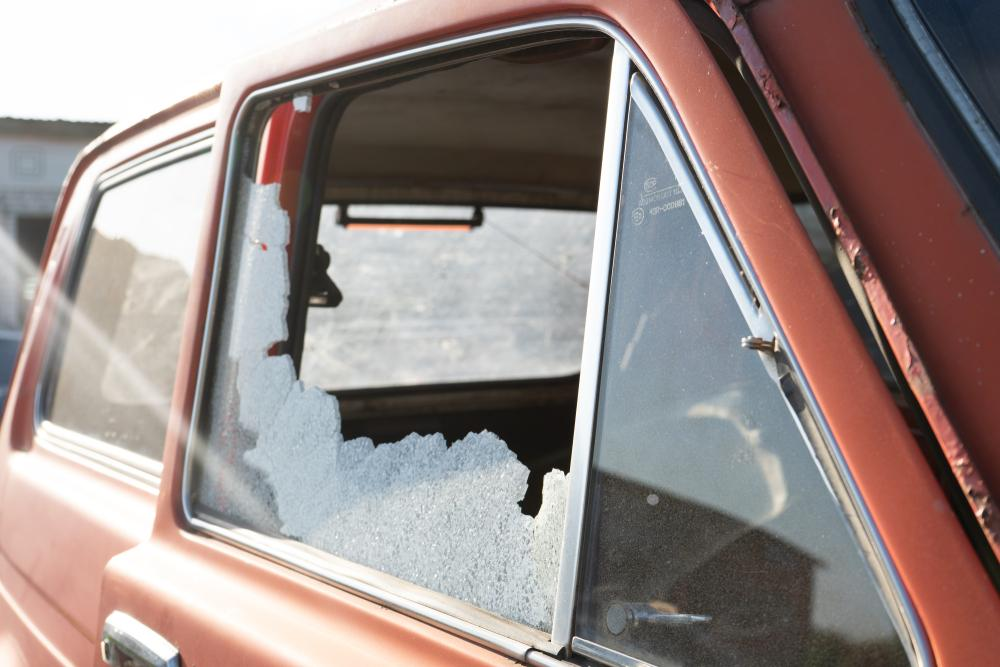glass shatter: (193, 26, 615, 633)
